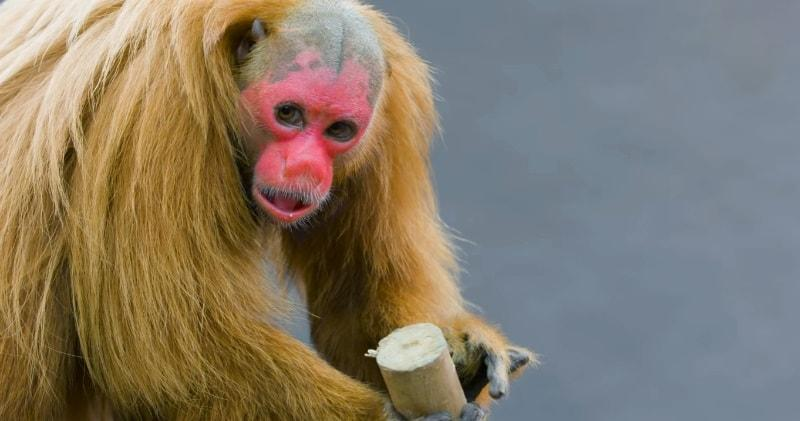monkey: (228, 5, 530, 421)
